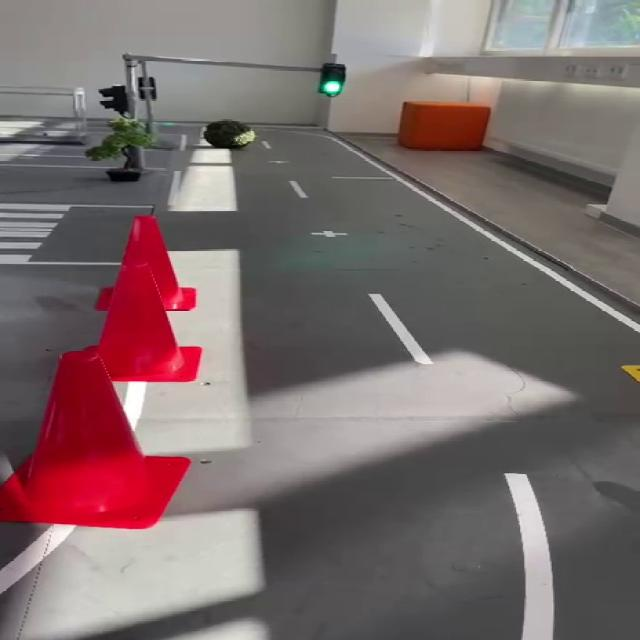Cone-red: (0, 345, 189, 528), (97, 265, 200, 381), (121, 215, 193, 309)
Cones-yellow: (621, 365, 639, 382)
